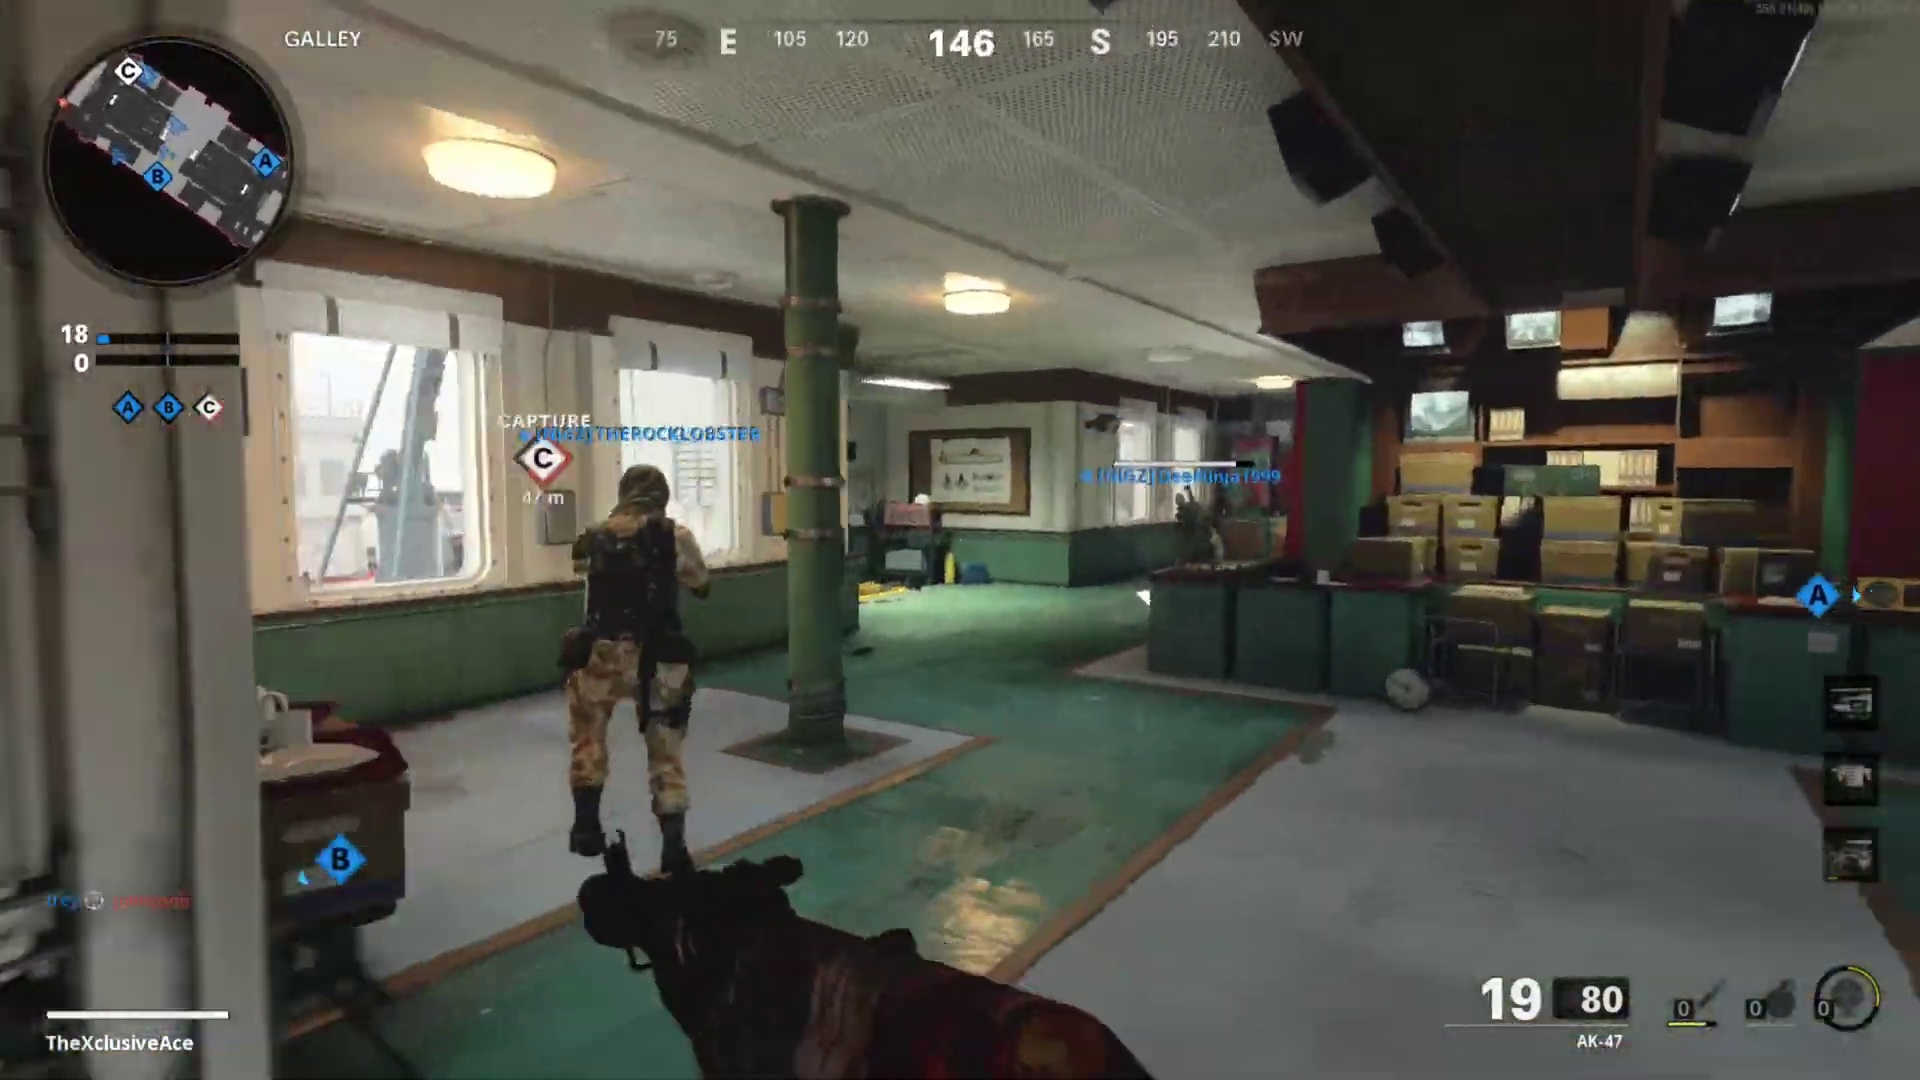head: (609, 465, 672, 534), (1172, 489, 1190, 510)
person: (552, 461, 716, 869), (1174, 485, 1228, 562)
